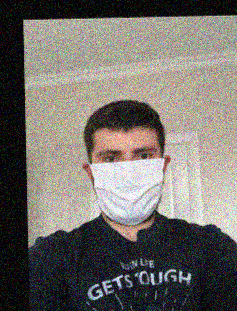with_mask: (89, 138, 165, 225)
